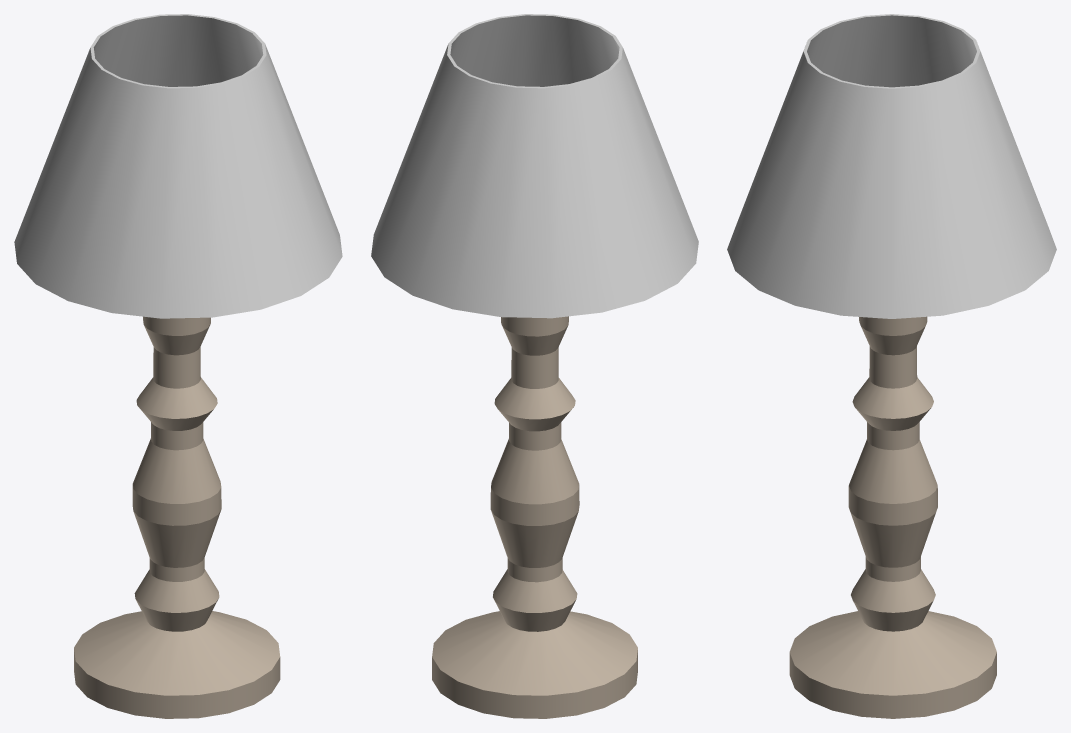
Rendered from LampeChevet1_4.fbx.
3 views of the same model, side by side, from view 1: azimuth 30°, elevation 25°; view 2: azimuth 150°, elevation 25°; view 3: azimuth 270°, elevation 25° (orthographic).
Parts seen in each view (by area): view 1: pPipe38, pCylinder230; view 2: pPipe38, pCylinder230; view 3: pPipe38, pCylinder230.
Part boxes in pixels (<box>): pPipe38: <box>14,14,342,318</box>; pCylinder230: <box>74,316,280,718</box>; pPipe38: <box>371,14,698,318</box>; pCylinder230: <box>432,316,637,718</box>; pPipe38: <box>727,14,1056,318</box>; pCylinder230: <box>789,316,996,718</box>.
Bounding box in the file's own units: 15.07 × 31.45 × 15.07.
